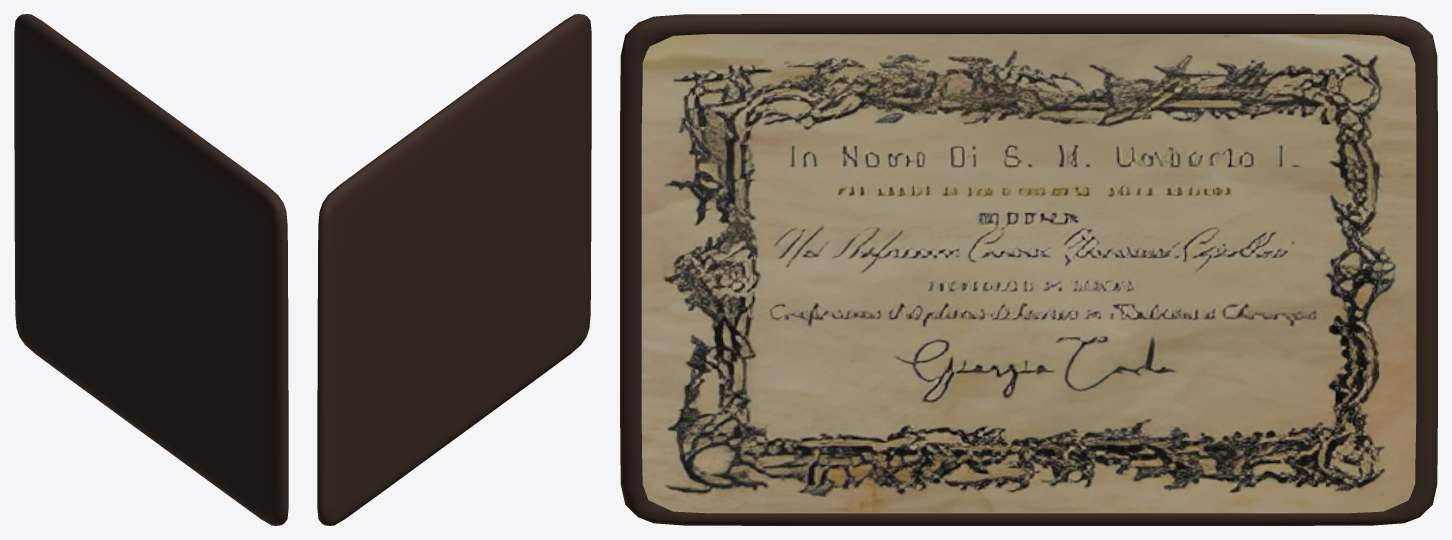
Rendered from AttestatoOR.fbx.
The picture shows the model from 3 angles, left to right: view 1: azimuth 30°, elevation 25°; view 2: azimuth 150°, elevation 25°; view 3: azimuth 270°, elevation 25°; orthographic projection. The views are drawn at different scales.
Parts seen in each view (by area): view 1: Cube; view 2: Cube; view 3: Cube.
Boxes of the visible parts, left/top/right/bottom form: Cube: left=14, top=14, right=288, bottom=525; Cube: left=317, top=14, right=591, bottom=525; Cube: left=620, top=14, right=1437, bottom=525.
Size of the model in its own units: 2.41 by 61.02 by 88.6.
Materials: 2 (1 with a texture image).
